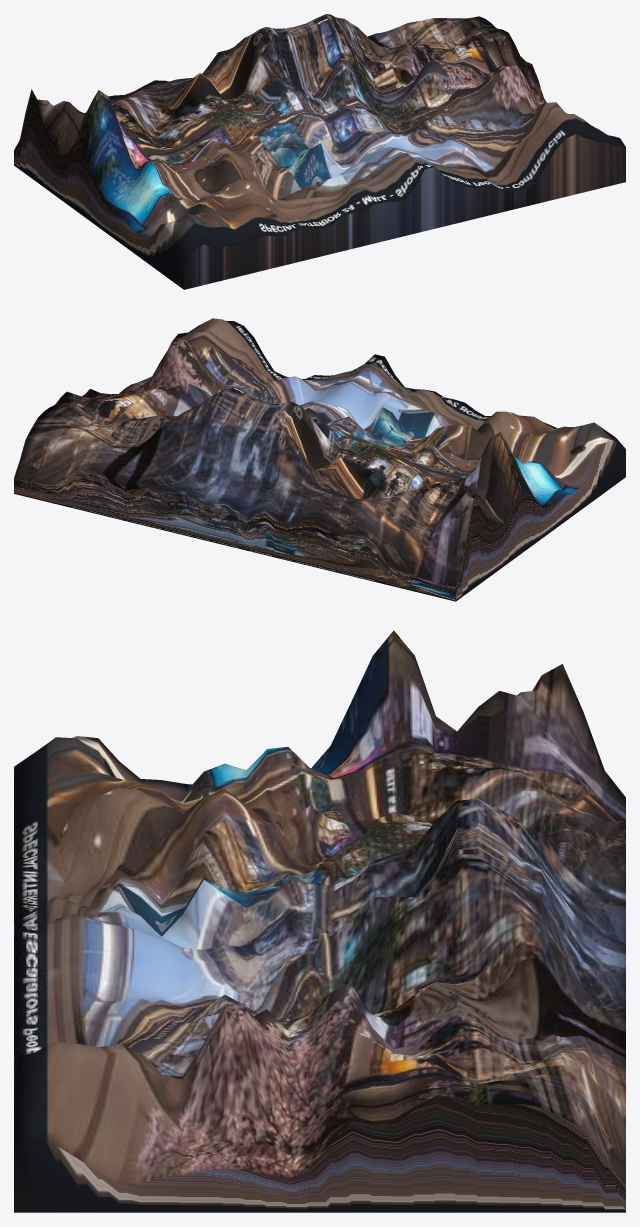
The model's file is SPECIAL_INT_24_Mall.glb.
3 views of the same model, one above another, from view 1: azimuth 30°, elevation 25°; view 2: azimuth 150°, elevation 25°; view 3: azimuth 270°, elevation 25° (orthographic). The views are drawn at different scales.
Visible parts, largest first — view 1: SPECIAL_INT_24_Mall; view 2: SPECIAL_INT_24_Mall; view 3: SPECIAL_INT_24_Mall.
Part boxes in pixels (x1,y1,x2,y2): SPECIAL_INT_24_Mall: (14,14,625,289); SPECIAL_INT_24_Mall: (14,318,625,601); SPECIAL_INT_24_Mall: (14,630,625,1212).
Size of the model in its own units: 2 by 0.51 by 1.33.
Materials: 1 (1 with a texture image).
